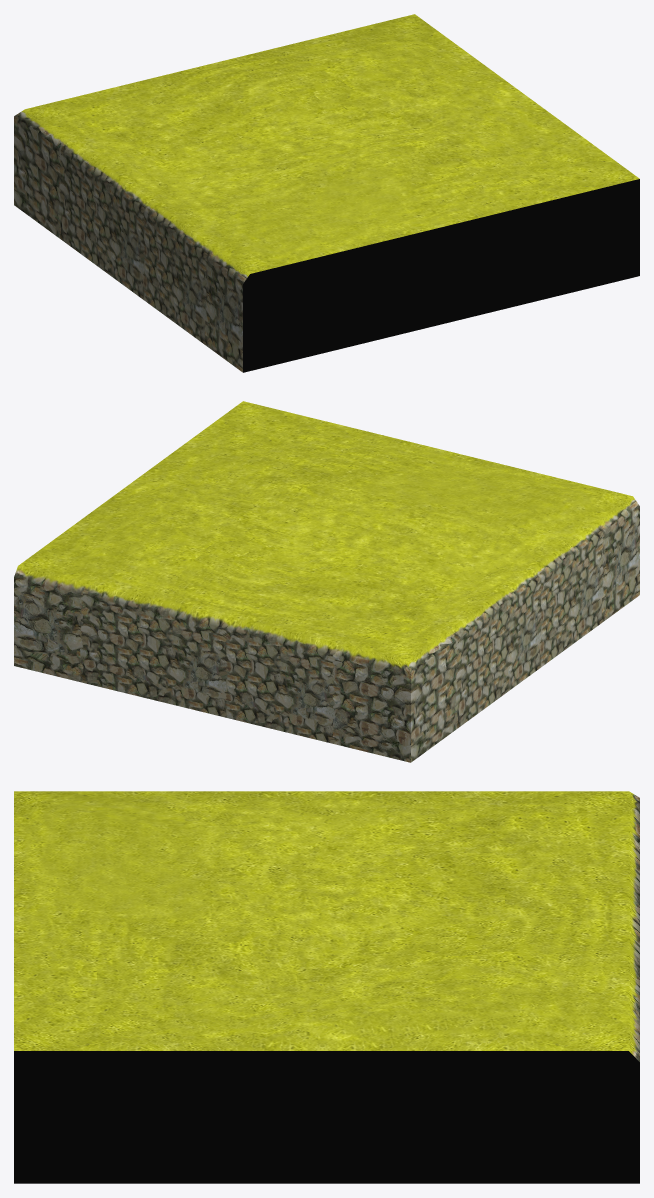
File: Terrace_Corner_01.fbx
3 renders of one model, top to bottom at view 1: azimuth 30°, elevation 25°; view 2: azimuth 150°, elevation 25°; view 3: azimuth 270°, elevation 25°, orthographic. The views are drawn at different scales.
Parts seen in each view (by area): view 1: pCube7; view 2: pCube7; view 3: pCube7.
Part boxes in pixels (x1,y1,x2,y2): pCube7: (14, 14, 639, 372); pCube7: (14, 401, 639, 762); pCube7: (14, 791, 639, 1183).
Size of the model in its own units: 14.14 by 3.6 by 14.14.
Materials: 1 (1 with a texture image).
